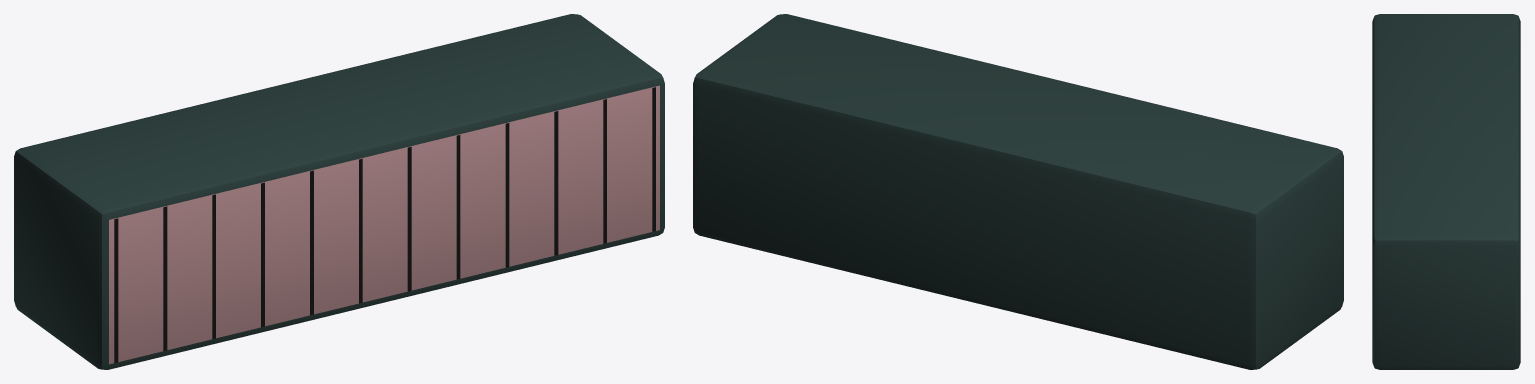
File: First light.fbx
3 views of the same model, side by side, from view 1: azimuth 30°, elevation 25°; view 2: azimuth 150°, elevation 25°; view 3: azimuth 270°, elevation 25° (orthographic). The views are drawn at different scales.
Visible parts, largest first — view 1: Box005; view 2: Box005; view 3: Box005.
Boxes of the visible parts, x1,y1,x2,y2 form: Box005: (14,14,664,369); Box005: (693,14,1343,369); Box005: (1372,14,1520,369).
Size of the model in its own units: 69.6 by 18.96 by 19.16.
